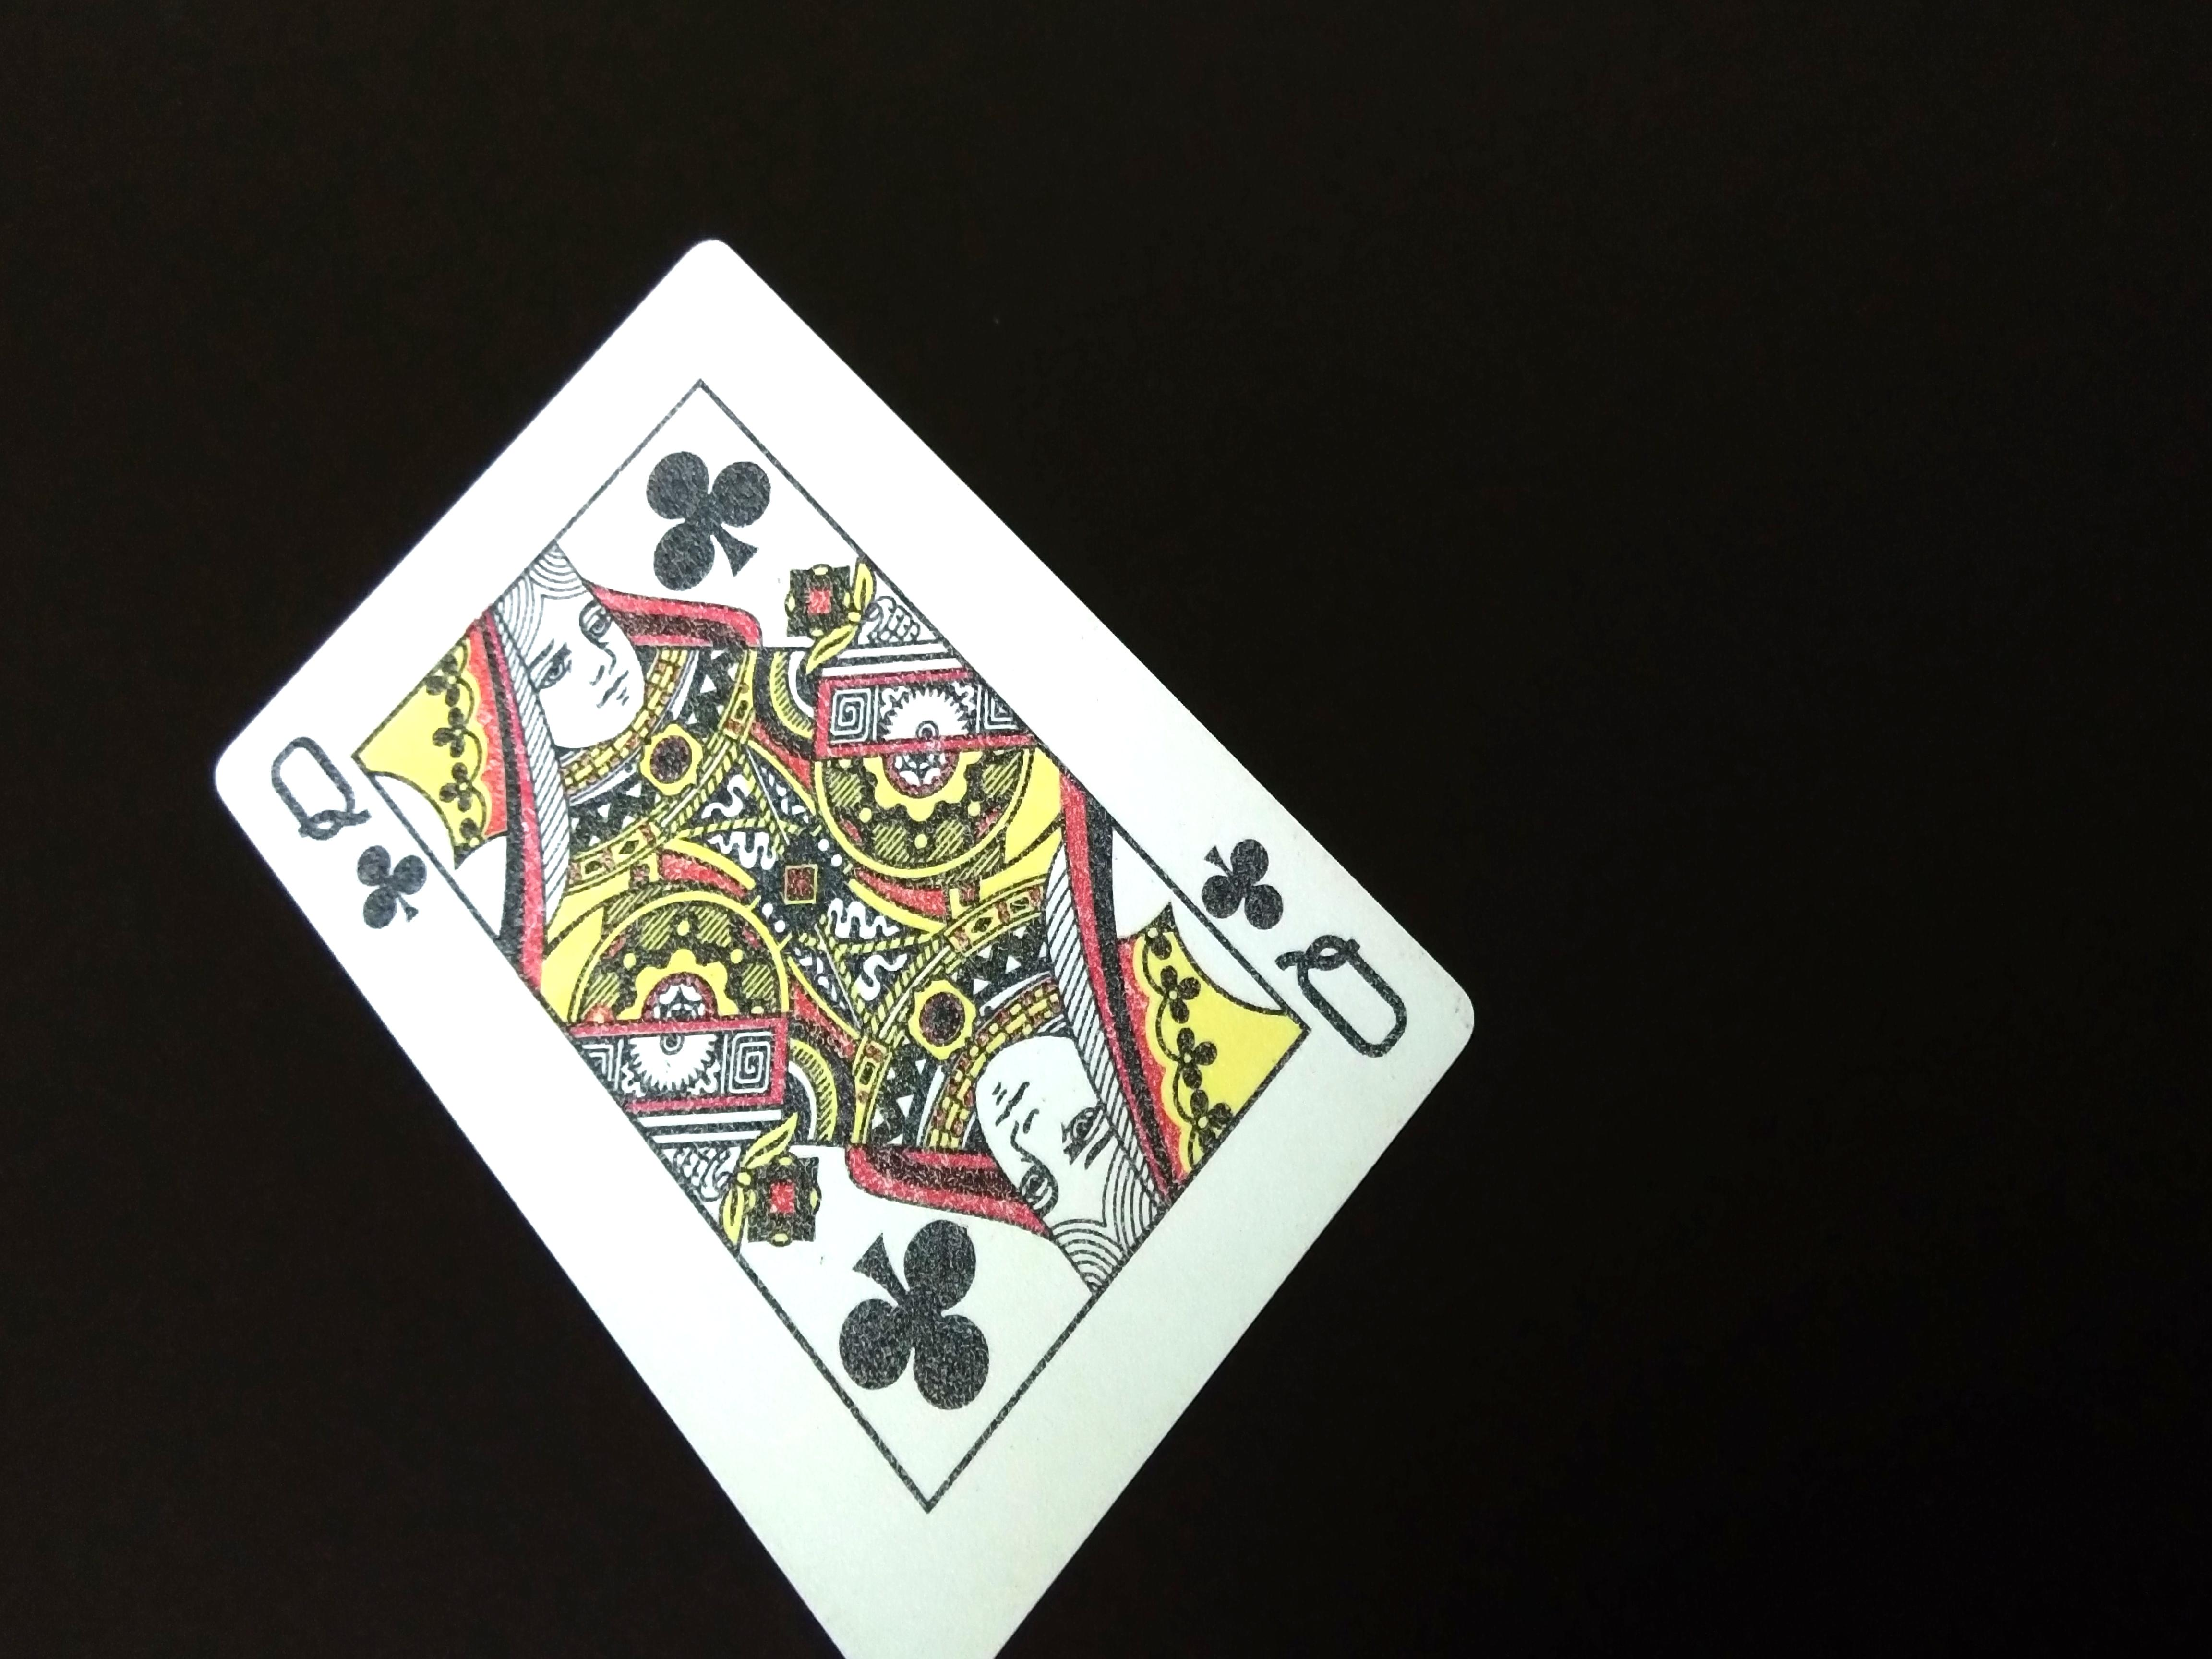QC: (247, 730, 432, 932)
